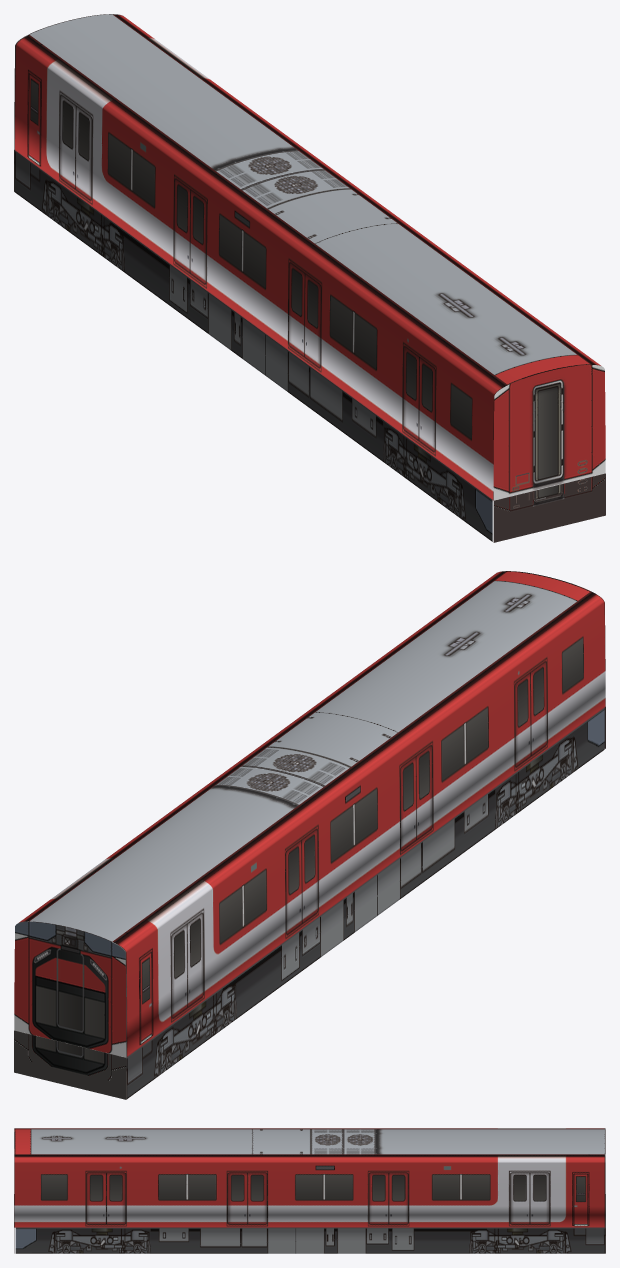
The model's file is car4.glb.
3 renders of one model, top to bottom at view 1: azimuth 30°, elevation 25°; view 2: azimuth 150°, elevation 25°; view 3: azimuth 270°, elevation 25°, orthographic. The views are drawn at different scales.
Parts seen in each view (by area): view 1: kintetsu-6a-car4; view 2: kintetsu-6a-car4; view 3: kintetsu-6a-car4.
Part boxes in pixels (x1,y1,x2,y2): kintetsu-6a-car4: (14,14,605,542); kintetsu-6a-car4: (14,571,605,1099); kintetsu-6a-car4: (14,1128,605,1253).
Size of the model in its own units: 2.8 by 3.77 by 20.75.
Materials: 8 (7 with a texture image).
